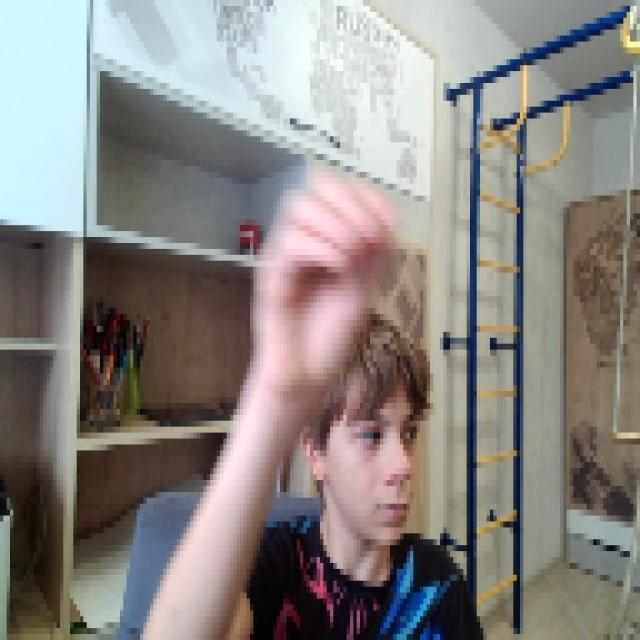left_click: (253, 166, 390, 385)
